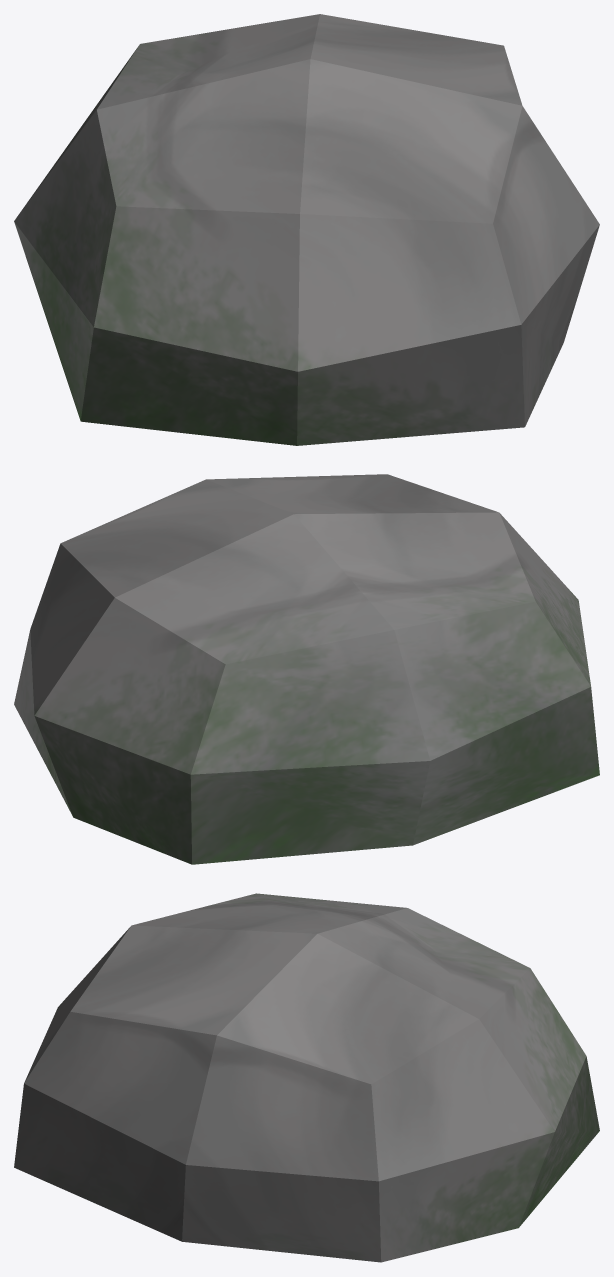
Rendered from FRM0510025.fbx.
The picture shows the model from 3 angles, top to bottom: view 1: azimuth 30°, elevation 25°; view 2: azimuth 150°, elevation 25°; view 3: azimuth 270°, elevation 25°; orthographic projection. The views are drawn at different scales.
Visible parts, largest first — view 1: smFRM0510025; view 2: smFRM0510025; view 3: smFRM0510025.
Boxes of the visible parts, left/top/right/bottom form: smFRM0510025: left=14, top=14, right=599, bottom=445; smFRM0510025: left=14, top=474, right=599, bottom=864; smFRM0510025: left=14, top=893, right=599, bottom=1262.
Bounding box in the file's own units: 102 × 57.37 × 108.
Materials: 1 (1 with a texture image).
